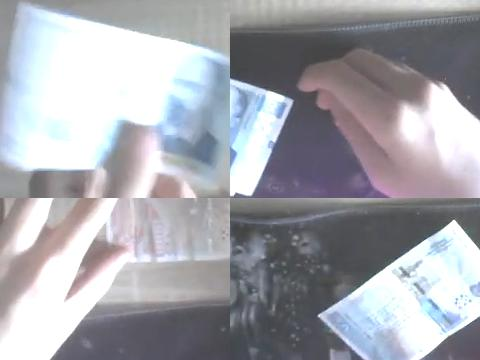20leva: (0, 1, 230, 198), (317, 219, 480, 360), (230, 76, 294, 196)
5leva: (133, 198, 230, 262)
